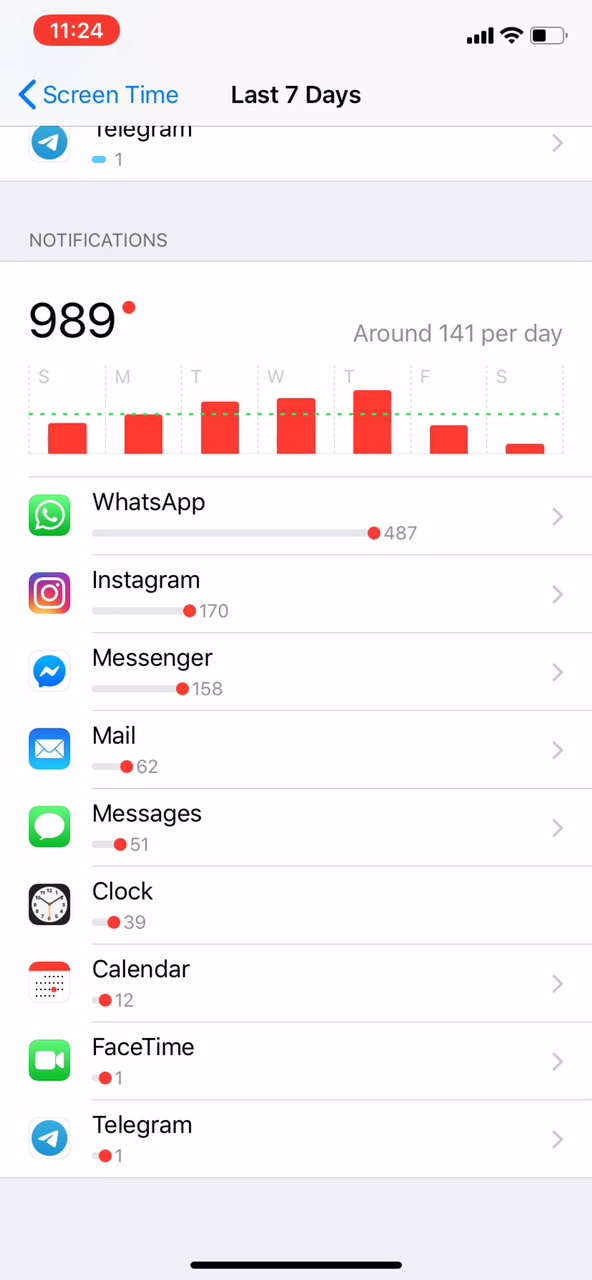not_app: (31, 480, 448, 549), (15, 1032, 303, 1103), (25, 633, 293, 708), (23, 786, 250, 866), (20, 949, 279, 1019), (20, 1108, 315, 1166), (26, 557, 262, 628), (25, 714, 240, 783), (20, 874, 214, 941)
not_over: (7, 213, 193, 357)
week: (217, 79, 388, 114)
